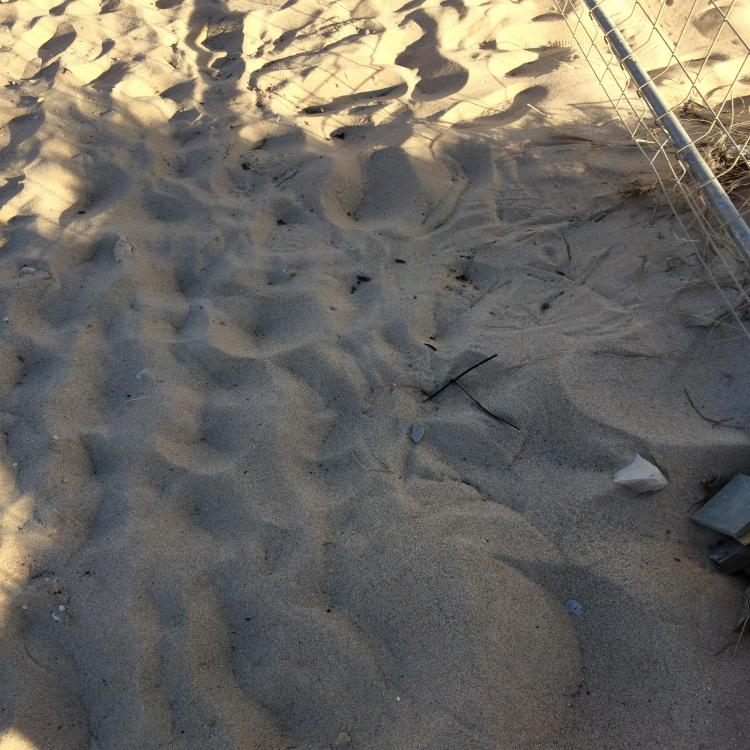Other plastic wrapper: (423, 354, 520, 430)
